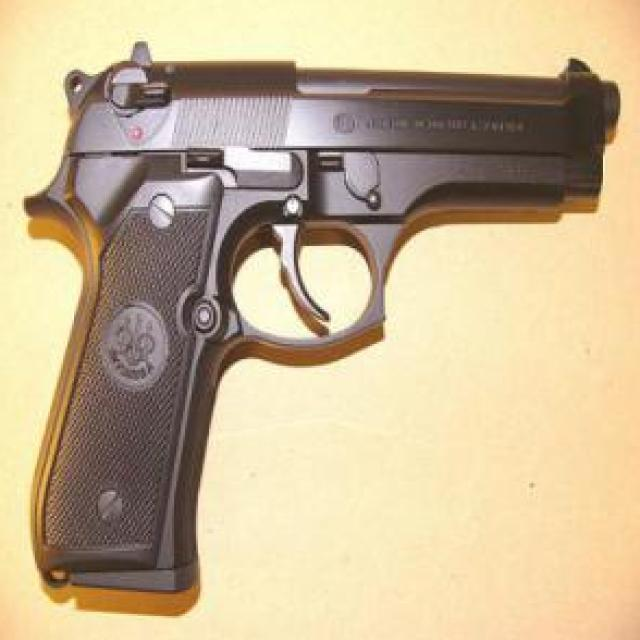pistol: (22, 41, 620, 592)
